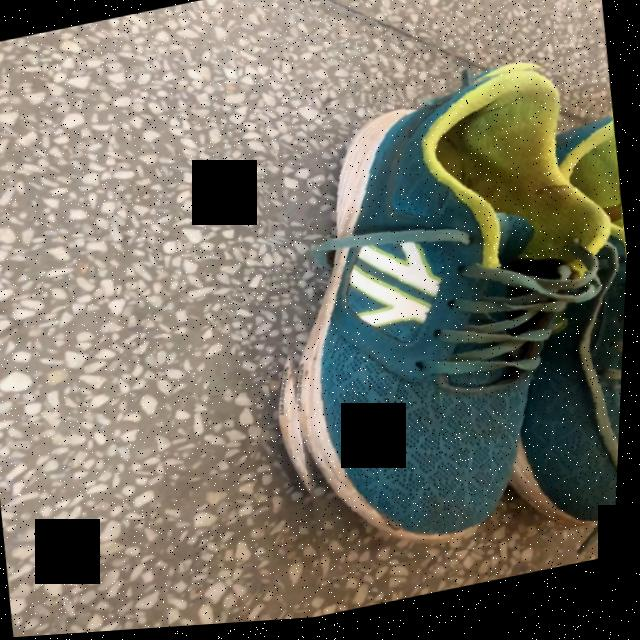shoe: (298, 76, 626, 549)
